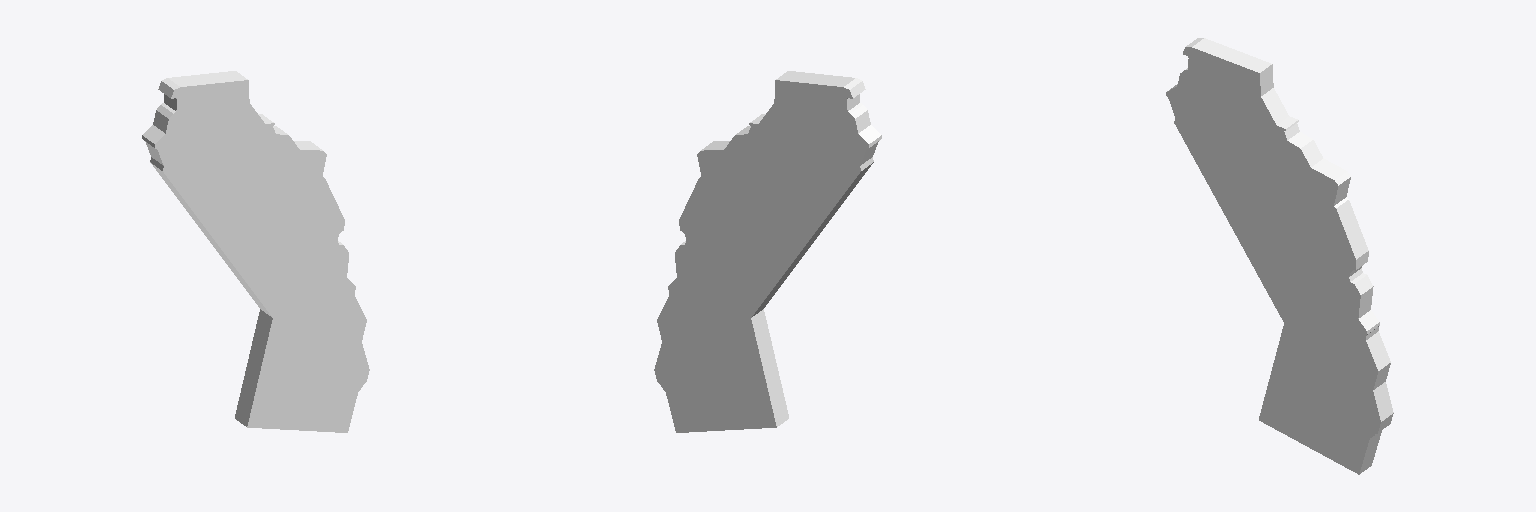
File: california.obj
The picture shows the model from 3 angles: view 1: azimuth 30°, elevation 25°; view 2: azimuth 150°, elevation 25°; view 3: azimuth 330°, elevation 25°; orthographic projection.
Visible parts, largest first — view 1: Spline_Object; view 2: Spline_Object; view 3: Spline_Object.
Part boxes in pixels (left/top/right/bottom): Spline_Object: left=142, top=71, right=369, bottom=432; Spline_Object: left=654, top=71, right=881, bottom=432; Spline_Object: left=1166, top=38, right=1393, bottom=474.
Size of the model in its own units: 56.65 by 97.37 by 5.79.